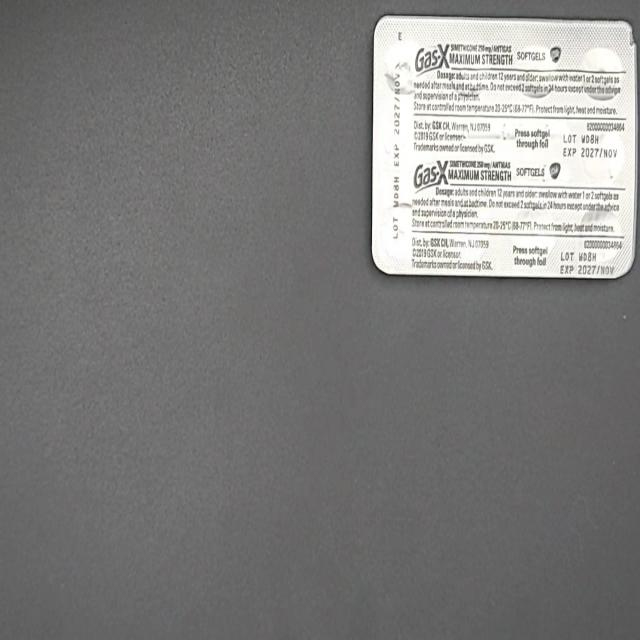no defect: (7, 10, 28, 46)
